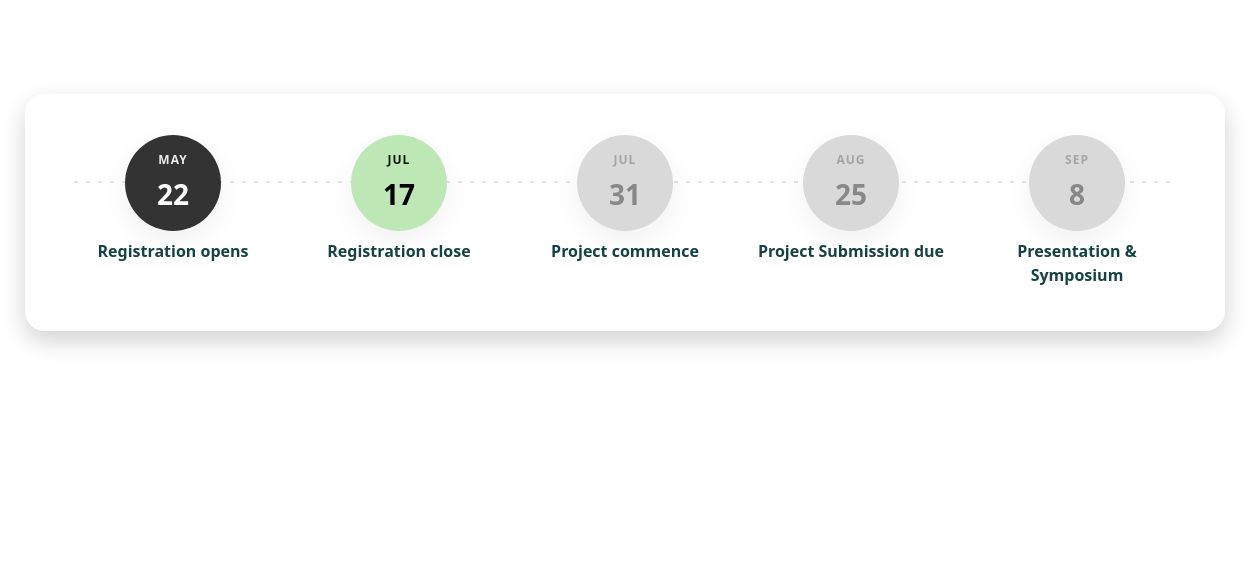
Test: VictoriaSatellite Timeline Component › handles click effect state
This screenshot has width=1251, height=566.
// Click button to trigger click effect
Click the button "MAY 22" at (173, 183), box x1=125 y1=135 x2=221 y2=231
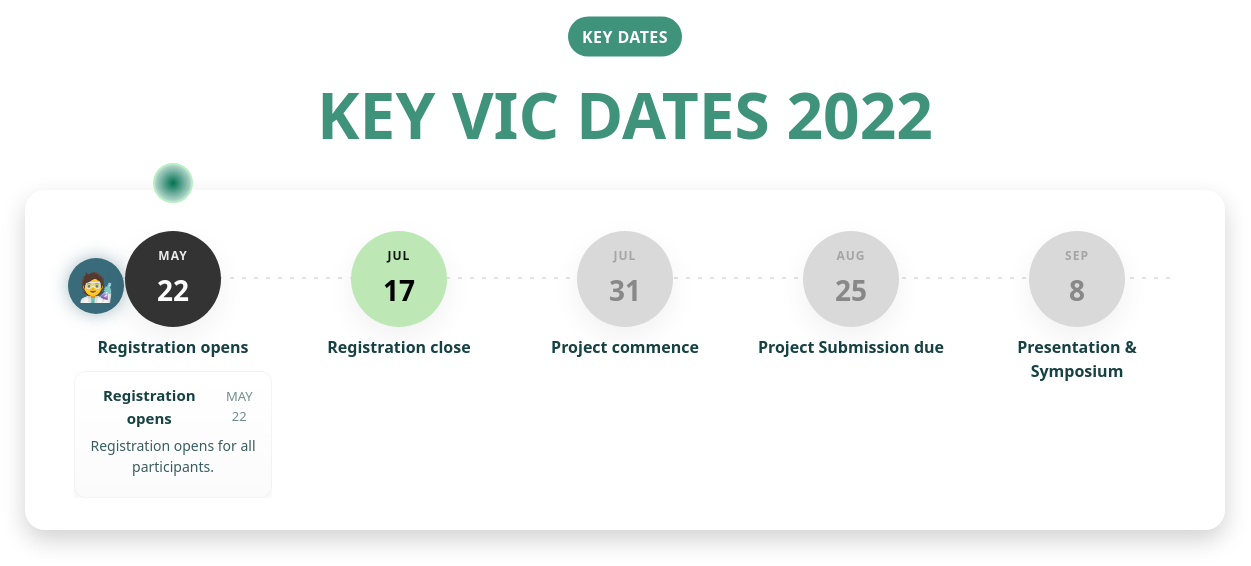
Now the text "KEY VIC DATES 2022" is shown, box x1=317 y1=71 x2=933 y2=158
